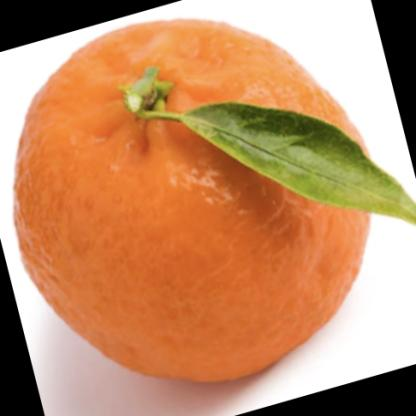fresh: (14, 21, 372, 384)
